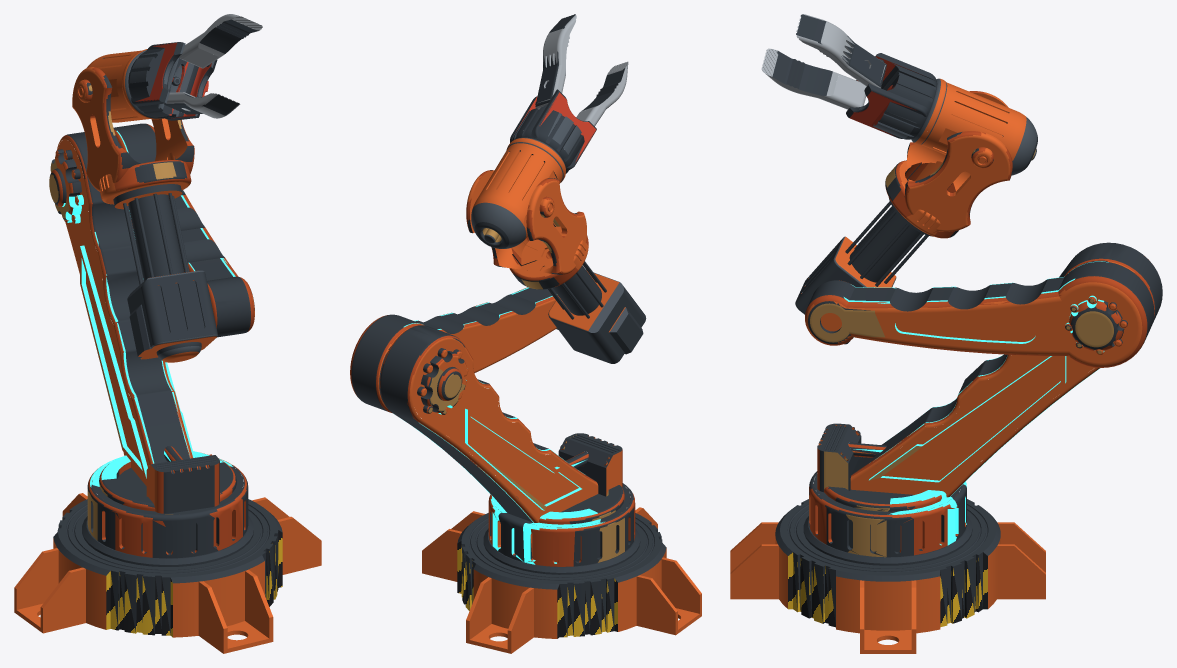
The model's file is robotic-arm-assembly.glb.
The picture shows the model from 3 angles, left to right: view 1: azimuth 30°, elevation 25°; view 2: azimuth 150°, elevation 25°; view 3: azimuth 270°, elevation 25°; orthographic projection. The views are drawn at different scales.
Visible parts, largest first — view 1: Lower Arm Link-1, Base-1, Shoulder Drive Unit-1, Rotary Yoke Joint-1, Upper Arm Link-1, Gripper Actuator-1, grip-1, Wrist Modul-1, grip-2; view 2: Lower Arm Link-1, Base-1, Upper Arm Link-1, Rotary Yoke Joint-1, Shoulder Drive Unit-1, Wrist Modul-1, Gripper Actuator-1, grip-1, grip-2; view 3: Lower Arm Link-1, Base-1, Upper Arm Link-1, Rotary Yoke Joint-1, Shoulder Drive Unit-1, Wrist Modul-1, Gripper Actuator-1, grip-2, grip-1.
Part boxes in pixels (x1,y1,x2,y2): Lower Arm Link-1: (49,132,248,558); Base-1: (14,493,321,653); Shoulder Drive Unit-1: (113,184,217,362); Rotary Yoke Joint-1: (72,67,194,204); Upper Arm Link-1: (113,123,254,337); Gripper Actuator-1: (128,42,217,120); grip-1: (179,14,262,68); Wrist Modul-1: (87,49,160,122); grip-2: (164,92,240,118); Lower Arm Link-1: (380,325,635,566); Base-1: (422,507,701,653); Upper Arm Link-1: (350,287,558,412); Rotary Yoke Joint-1: (466,170,588,289); Shoulder Drive Unit-1: (548,261,646,363); Wrist Modul-1: (471,137,565,248); Gripper Actuator-1: (510,89,596,173); grip-1: (535,14,576,109); grip-2: (576,61,628,126); Lower Arm Link-1: (809,242,1162,557); Base-1: (730,495,1045,653); Upper Arm Link-1: (805,261,1154,367); Rotary Yoke Joint-1: (885,91,1012,238); Shoulder Drive Unit-1: (795,197,933,344); Wrist Modul-1: (911,78,1037,175); Gripper Actuator-1: (846,53,936,139); grip-2: (761,48,866,109); grip-1: (796,14,886,88).
Size of the model in its own units: 0.14 by 0.2871 by 0.1918.
33 materials, 1 textured.
